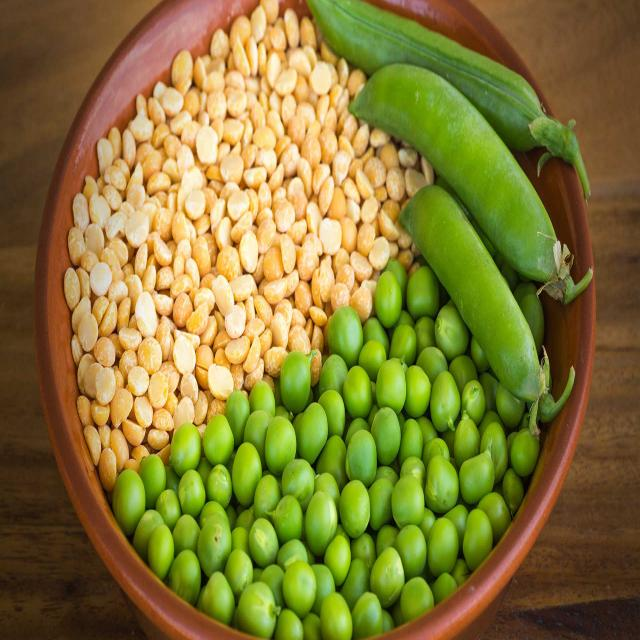pea: (347, 310, 480, 588), (210, 403, 351, 636)
